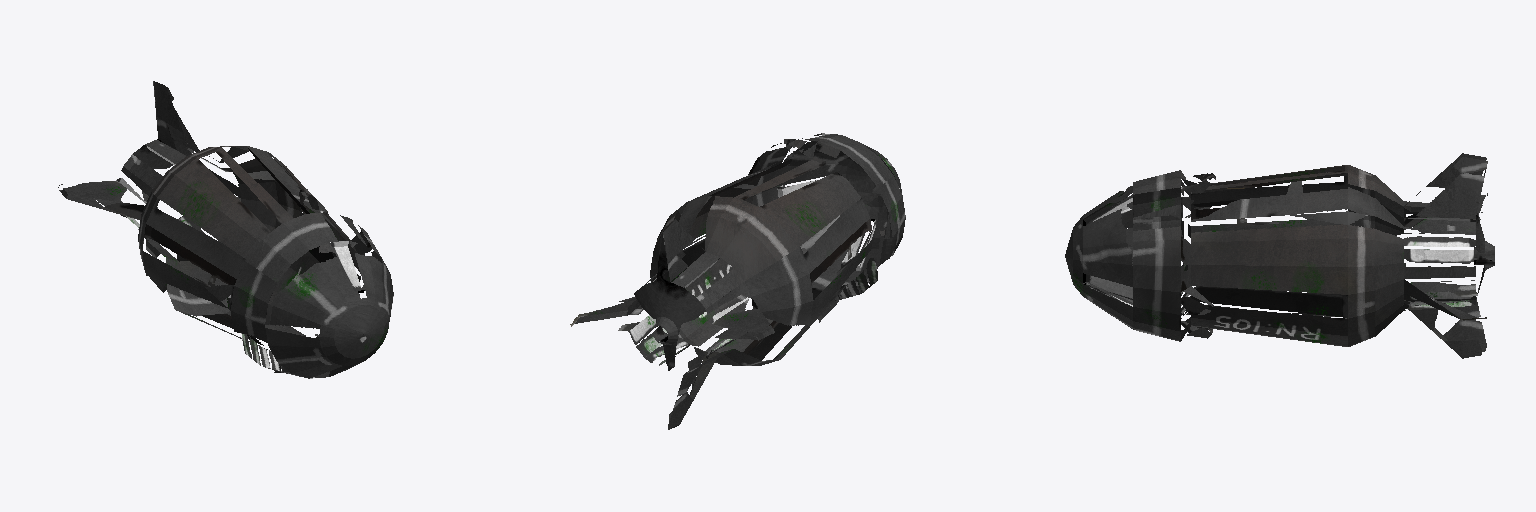
3 renders of one model, left to right at view 1: azimuth 30°, elevation 25°; view 2: azimuth 150°, elevation 25°; view 3: azimuth 270°, elevation 25°, orthographic.
Visible parts, largest first — view 1: pPipe1; view 2: pPipe1; view 3: pPipe1.
Part boxes in pixels (x1,y1,x2,y2): pPipe1: (58,81,393,378); pPipe1: (570,133,905,429); pPipe1: (1065,153,1494,358).
Bounding box in the file's own units: 3.43 × 3.43 × 6.47.
Materials: 1 (1 with a texture image).